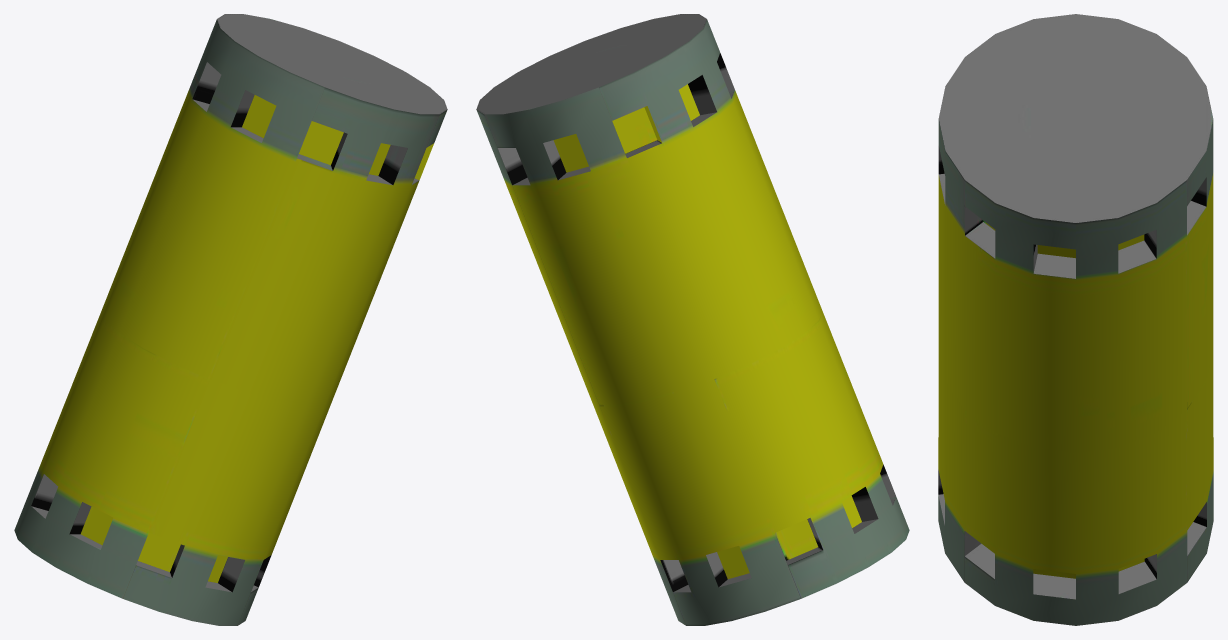
File: Ammo FBX.fbx
3 renders of one model, left to right at view 1: azimuth 30°, elevation 25°; view 2: azimuth 150°, elevation 25°; view 3: azimuth 270°, elevation 25°, orthographic. The views are drawn at different scales.
Visible parts, largest first — view 1: pCylinder1; view 2: pCylinder1; view 3: pCylinder1.
Part boxes in pixels (box(x1,y1,x2,y2)): pCylinder1: box(14, 14, 447, 625); pCylinder1: box(476, 14, 909, 625); pCylinder1: box(938, 14, 1213, 625).
Bounding box in the file's own units: 2.32 × 3.1 × 1.26.
1 material, 1 textured.
